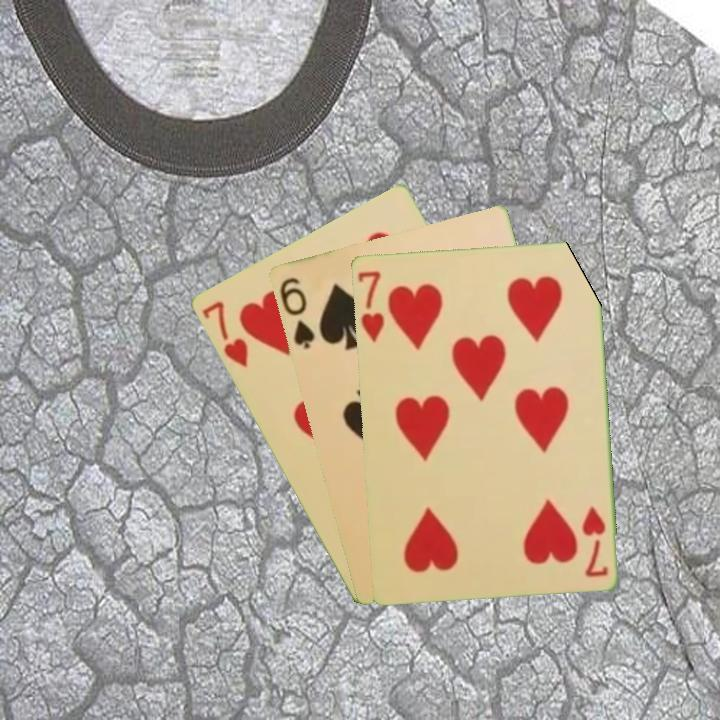6s: (275, 273, 317, 352)
7h: (197, 297, 251, 370), (354, 266, 387, 345), (578, 503, 610, 580)
